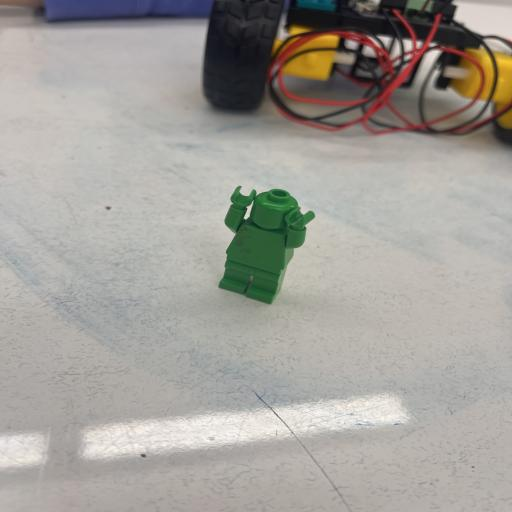Lego-Minifig: (219, 186, 314, 303)
